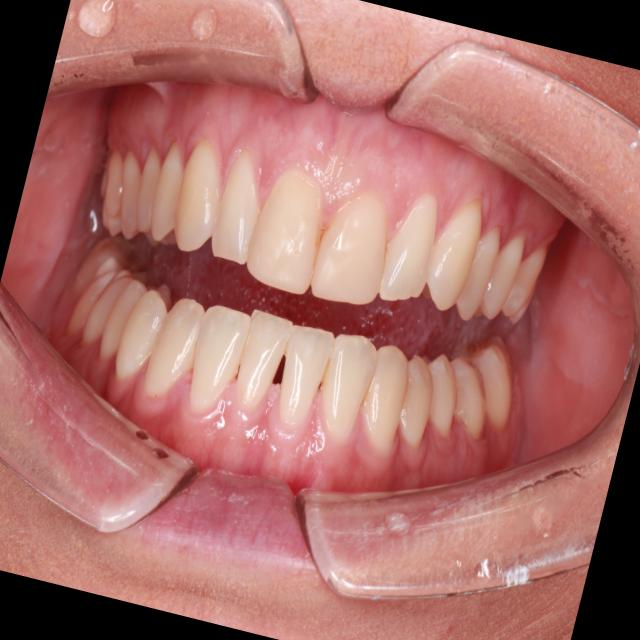tooth: (231, 150, 350, 310), (296, 176, 411, 323), (191, 127, 288, 279), (366, 177, 459, 330), (155, 118, 246, 266), (298, 323, 390, 468), (255, 308, 344, 456), (344, 330, 431, 476), (415, 182, 498, 331), (172, 290, 257, 428), (220, 297, 300, 428), (451, 330, 534, 452), (134, 122, 204, 256), (377, 343, 452, 468), (427, 348, 511, 454), (137, 291, 211, 411), (405, 339, 478, 454), (106, 278, 176, 394), (472, 219, 533, 338), (118, 133, 183, 244), (450, 213, 510, 332), (88, 267, 149, 380), (72, 257, 133, 359), (498, 228, 553, 338), (59, 244, 117, 345), (104, 146, 157, 237), (90, 144, 138, 239), (66, 225, 113, 305)
